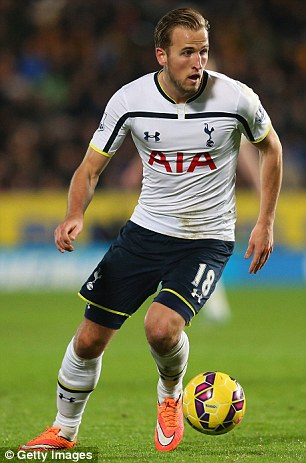football boots: (154, 387, 184, 452), (15, 425, 76, 451)
